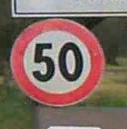limite 50: (7, 16, 107, 107)
